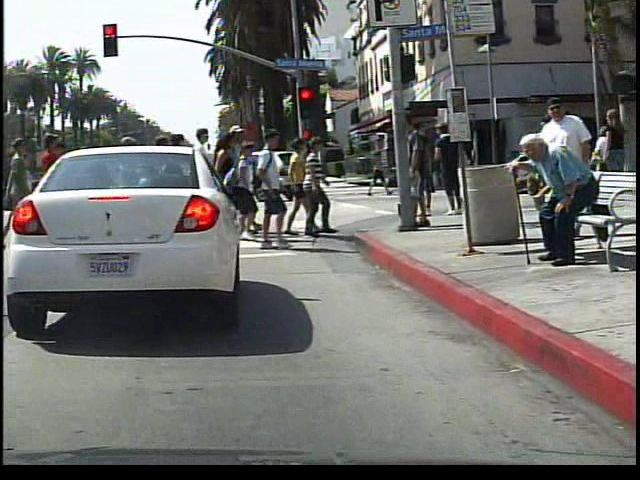person: (509, 132, 603, 271), (362, 140, 389, 196)
